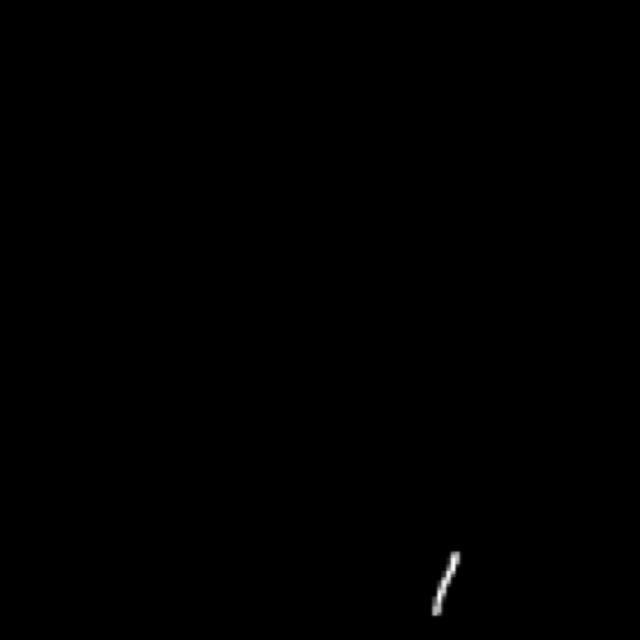one -1-: (413, 537, 482, 635)
